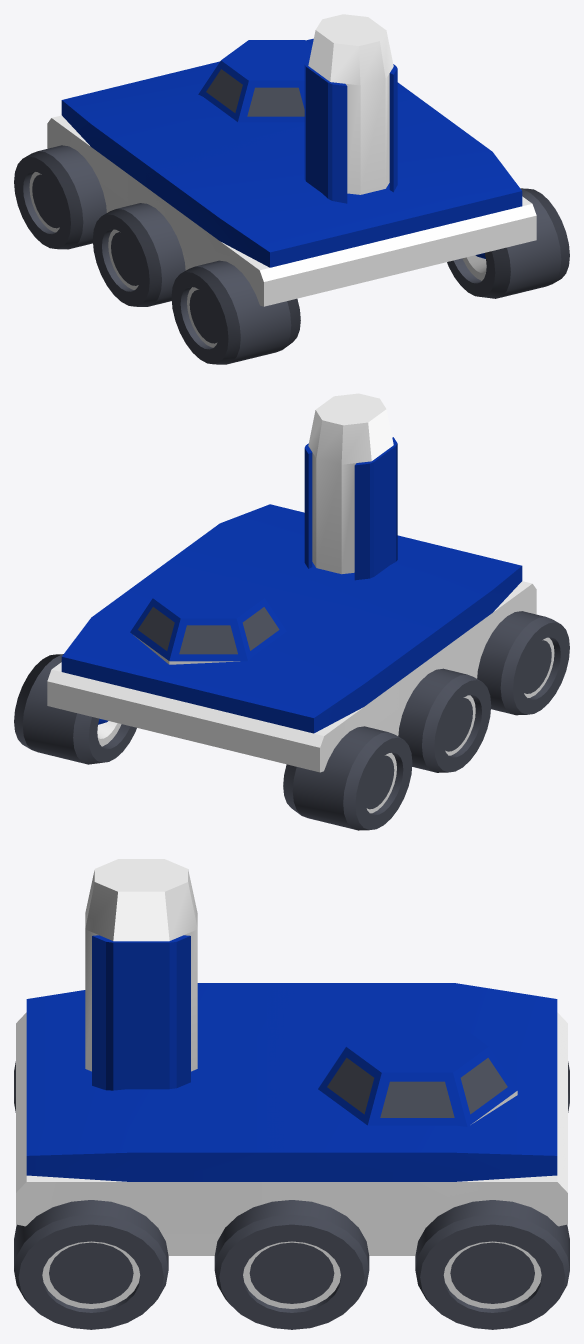
File: friendlyRangedUnitBase.obj
3 renders of one model, top to bottom at view 1: azimuth 30°, elevation 25°; view 2: azimuth 150°, elevation 25°; view 3: azimuth 270°, elevation 25°, orthographic. The views are drawn at different scales.
Bounding box in the file's own units: 1 × 0.7732 × 1.11.
